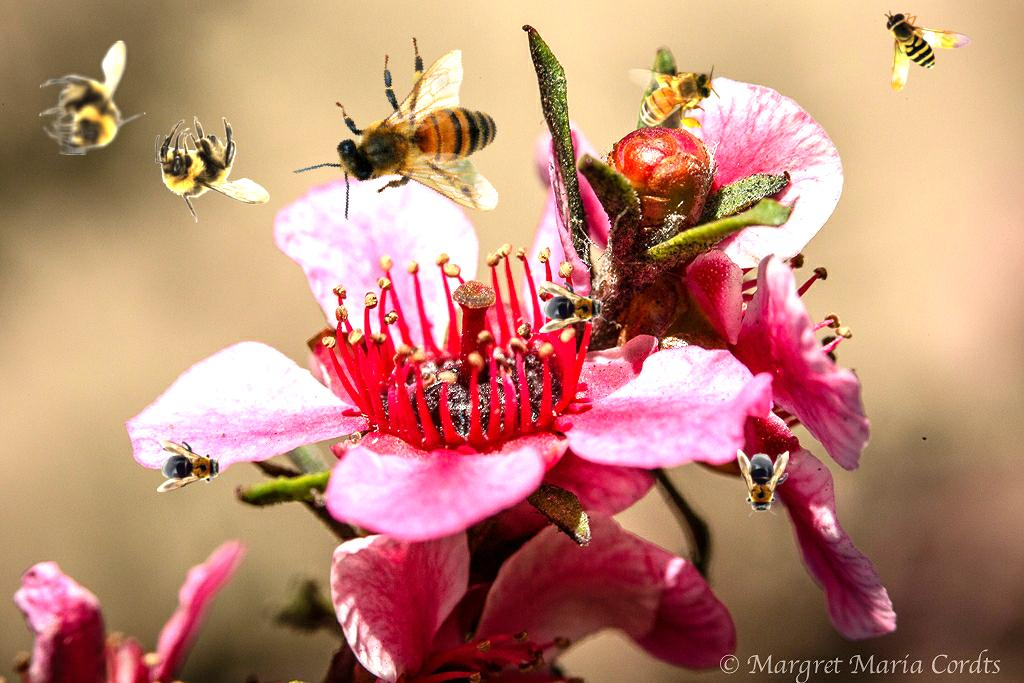Bee: (283, 11, 542, 267), (155, 116, 270, 223), (39, 40, 146, 155), (884, 10, 972, 92), (627, 64, 720, 132), (539, 281, 607, 333), (737, 449, 789, 517), (157, 440, 225, 492)
